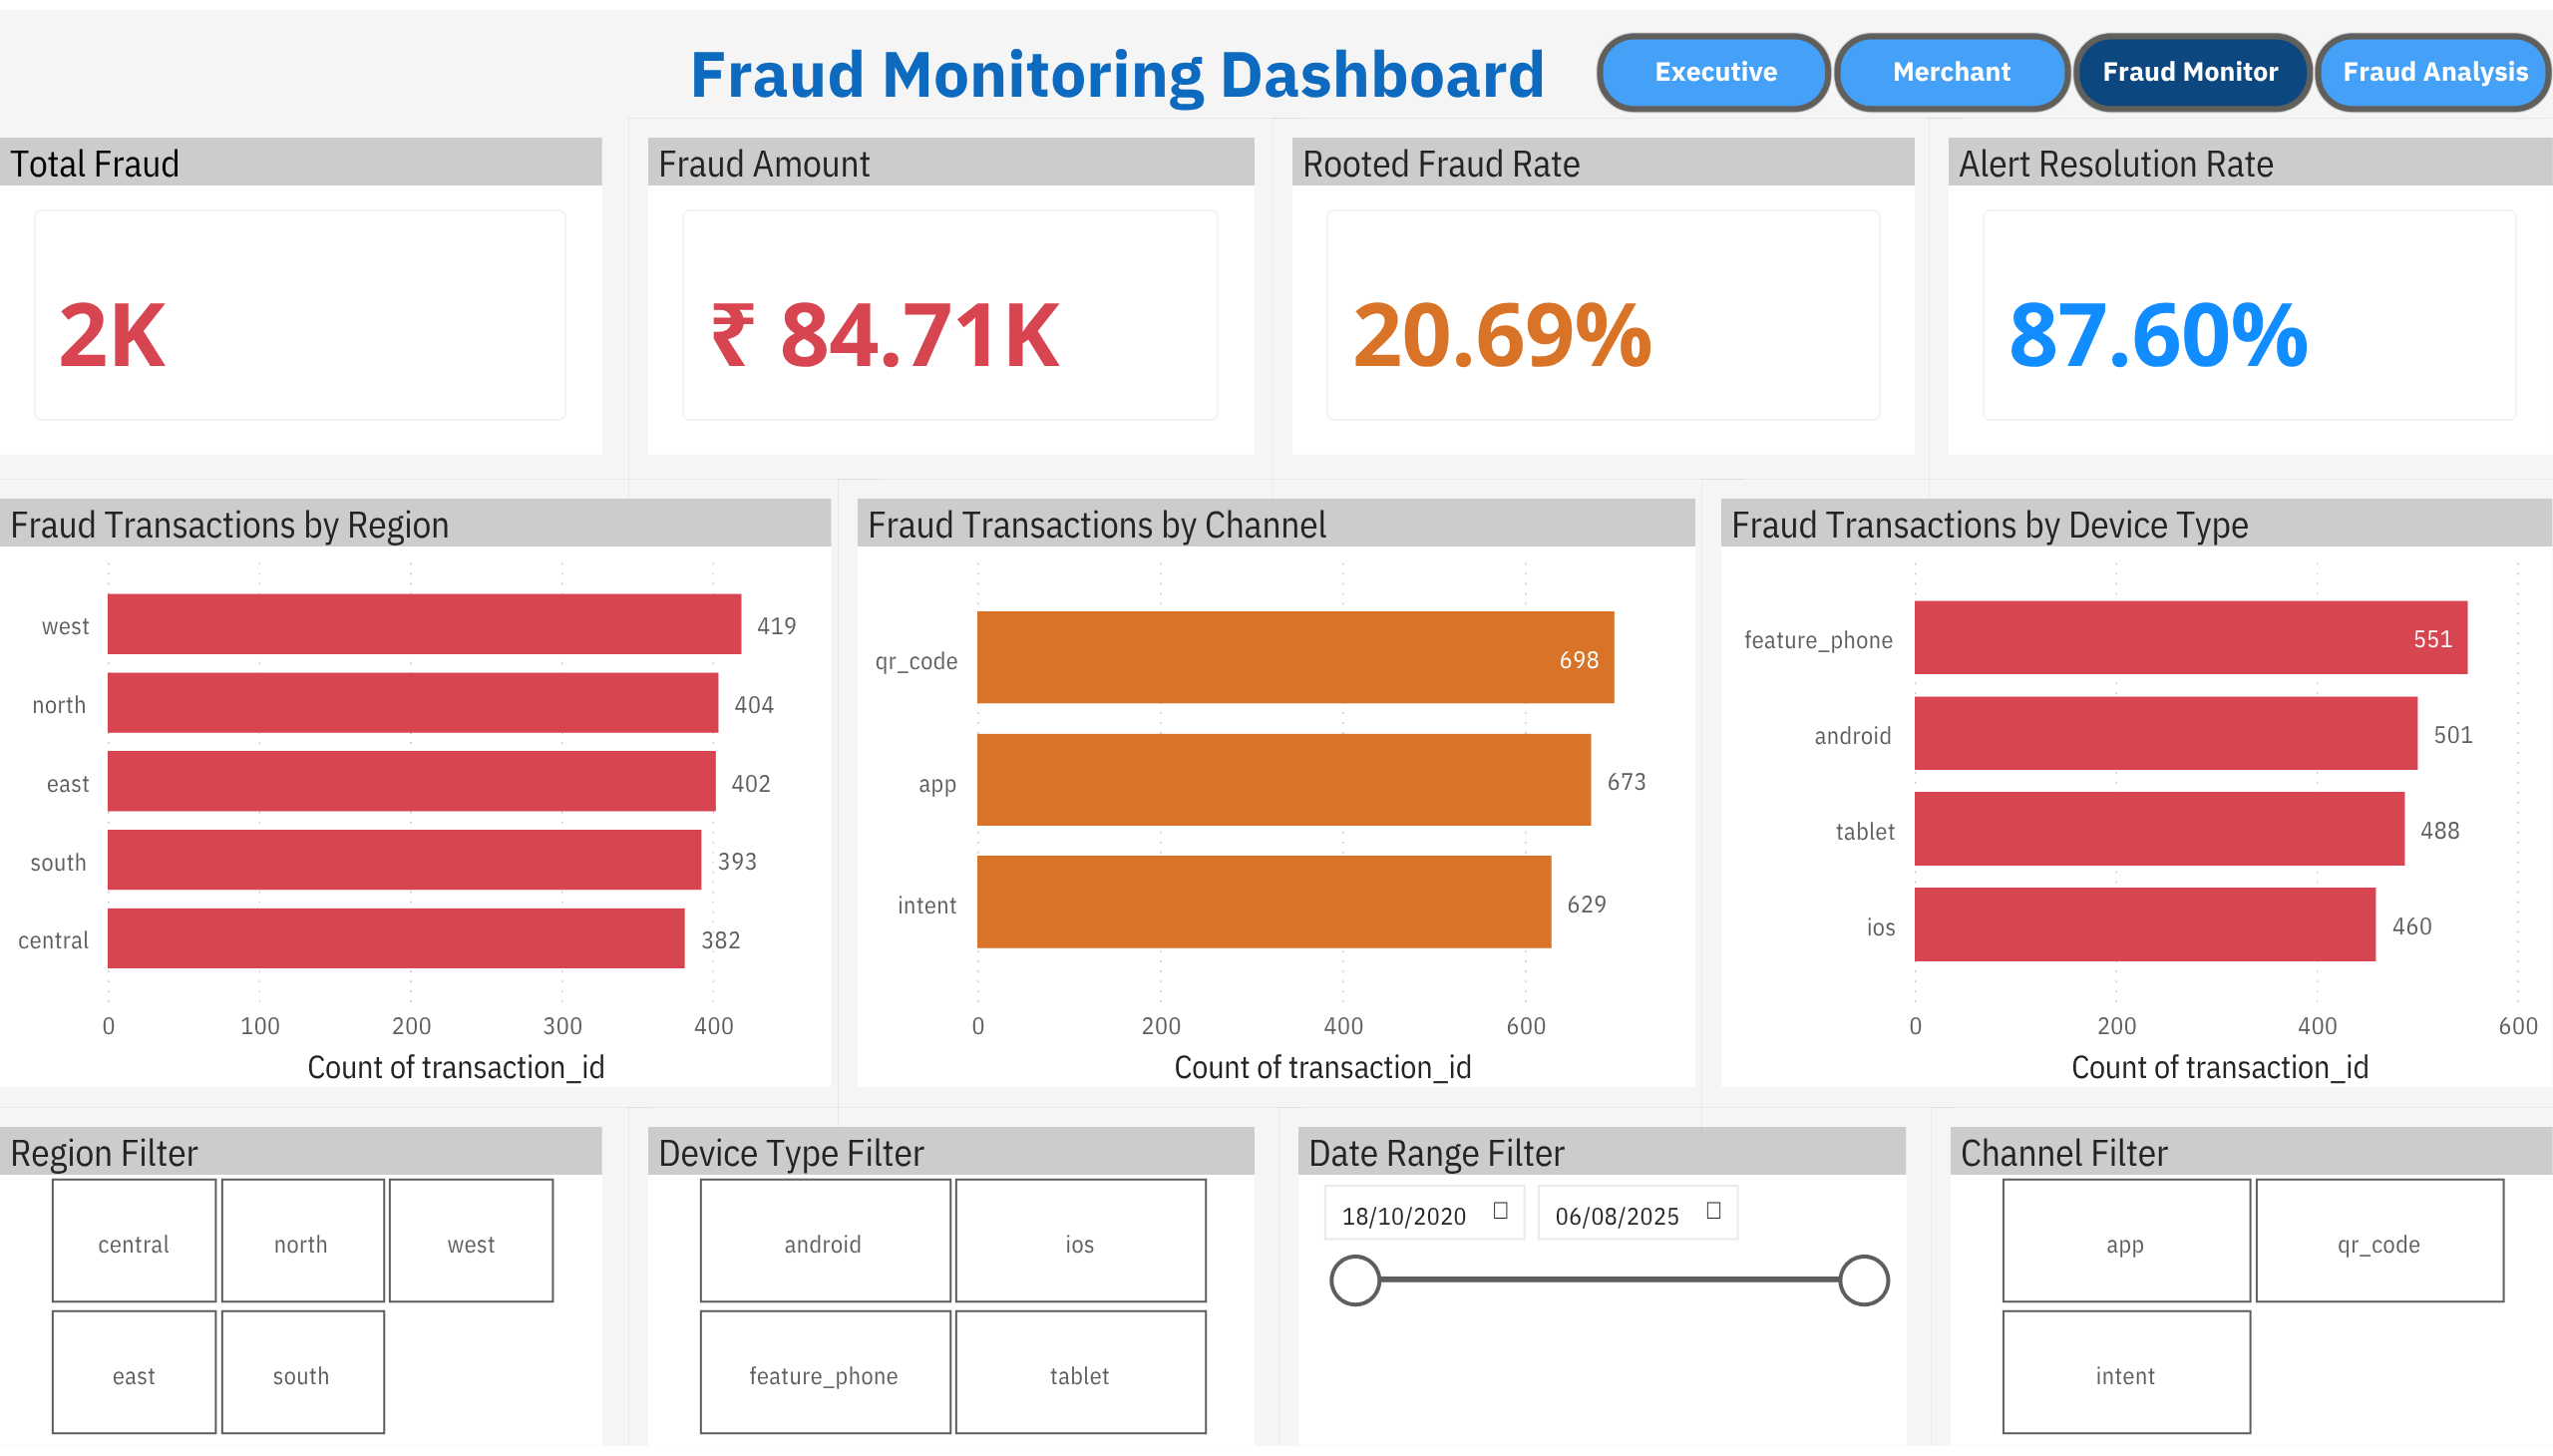

Layout of this report page (visuals, bound fields, positions):
{"tool":"powerbi","page":{"name":"Fraud Monitoring Dashboard","canvas":[1280,720],"ordinal":2},"visuals":[{"type":"cardVisual","title":"Total Fraud","fields":{"Data":["customer_feedback.Total Fraud"]},"box":[0,64,301.6,159.5],"z":0},{"type":"cardVisual","title":"Fraud Amount","fields":{"Data":["customer_feedback.Fraud Amount"]},"box":[325.4,64,303.7,159.5],"z":1000},{"type":"cardVisual","title":"Rooted Fraud Rate","fields":{"Data":["customer_feedback.Rooted Fraud Rate %"]},"box":[647.6,64,312.4,159.5],"z":2000},{"type":"cardVisual","title":"Alert Resolution Rate","fields":{"Data":["customer_feedback.Alert Resolution Rate %"]},"box":[977.4,64,302.6,159.5],"z":3000},{"type":"clusteredBarChart","title":"Fraud Transactions by Region","fields":{"Category":["vw_clean_customer.region"],"Y":["CountNonNull(upi_transaction_history.transaction_id)"]},"box":[0,245.2,416.5,295.1],"z":4000},{"type":"clusteredBarChart","title":"Fraud Transactions by Channel","fields":{"Category":["upi_transaction_history.channel"],"Y":["CountNonNull(upi_transaction_history.transaction_id)"]},"box":[429.6,245.2,419.8,295.1],"z":5000},{"type":"slicer","title":"Region Filter","fields":{"Values":["vw_clean_customer.region"]},"box":[0,559.7,301.6,160.5],"z":6000},{"type":"slicer","title":"Device Type Filter","fields":{"Values":["device_info.device_type"]},"box":[325.4,559.7,303.7,160.5],"z":7000},{"type":"slicer","title":"Date Range Filter","fields":{"Values":["upi_transaction_history.timestamp"]},"box":[650.8,559.7,304.8,160.5],"z":8000},{"type":"slicer","title":"Channel Filter","fields":{"Values":["upi_transaction_history.channel"]},"box":[978.4,559.7,301.6,160.5],"z":9000},{"type":"textbox","box":[0,0,788.5,64.4],"z":10000},{"type":"clusteredBarChart","title":"Fraud Transactions by Device Type","fields":{"Category":["device_info.device_type"],"Y":["CountNonNull(upi_transaction_history.transaction_id)"]},"box":[863.5,245.2,416.5,295.1],"z":11000},{"type":"actionButton","box":[799.7,11.1,118.8,40.9],"z":11001},{"type":"actionButton","box":[1159.9,11.1,120.1,40.9],"z":11002},{"type":"actionButton","box":[918.5,11.1,120.1,40.9],"z":11003},{"type":"actionButton","box":[1038.6,11.1,121.3,40.9],"z":11004}]}

Visuals, with their boxes in screenshot pixels (x1, y1, x2, y2), scaled from the page's 1280x720 canvas onto the 2553x1456 screenshot:
"Total Fraud" cardVisual: <bbox>0, 130, 601, 452</bbox>
"Fraud Amount" cardVisual: <bbox>649, 130, 1255, 452</bbox>
"Rooted Fraud Rate" cardVisual: <bbox>1291, 130, 1915, 452</bbox>
"Alert Resolution Rate" cardVisual: <bbox>1950, 130, 2552, 452</bbox>
"Fraud Transactions by Region" clusteredBarChart: <bbox>0, 496, 831, 1093</bbox>
"Fraud Transactions by Channel" clusteredBarChart: <bbox>857, 496, 1694, 1093</bbox>
"Region Filter" slicer: <bbox>0, 1132, 601, 1455</bbox>
"Device Type Filter" slicer: <bbox>649, 1132, 1255, 1455</bbox>
"Date Range Filter" slicer: <bbox>1298, 1132, 1906, 1455</bbox>
"Channel Filter" slicer: <bbox>1952, 1132, 2552, 1455</bbox>
textbox: <bbox>0, 0, 1573, 131</bbox>
"Fraud Transactions by Device Type" clusteredBarChart: <bbox>1722, 496, 2552, 1093</bbox>
actionButton: <bbox>1595, 23, 1832, 105</bbox>
actionButton: <bbox>2314, 23, 2552, 105</bbox>
actionButton: <bbox>1832, 23, 2071, 105</bbox>
actionButton: <bbox>2071, 23, 2314, 105</bbox>
